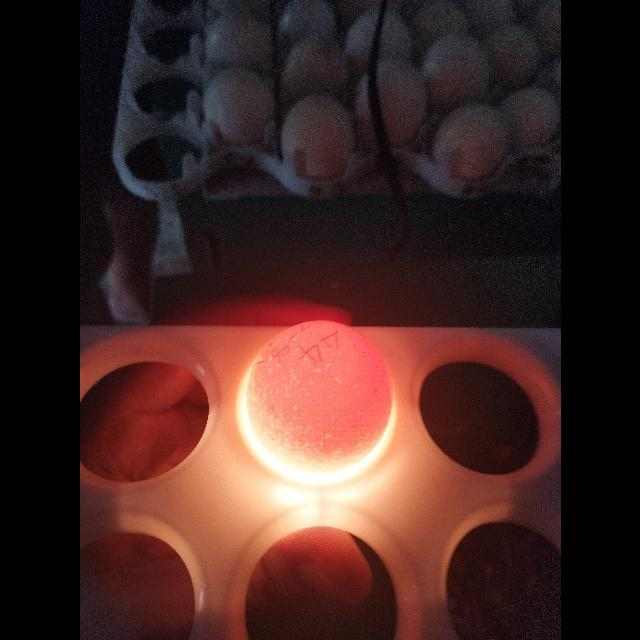A - Good: (241, 318, 395, 484)
